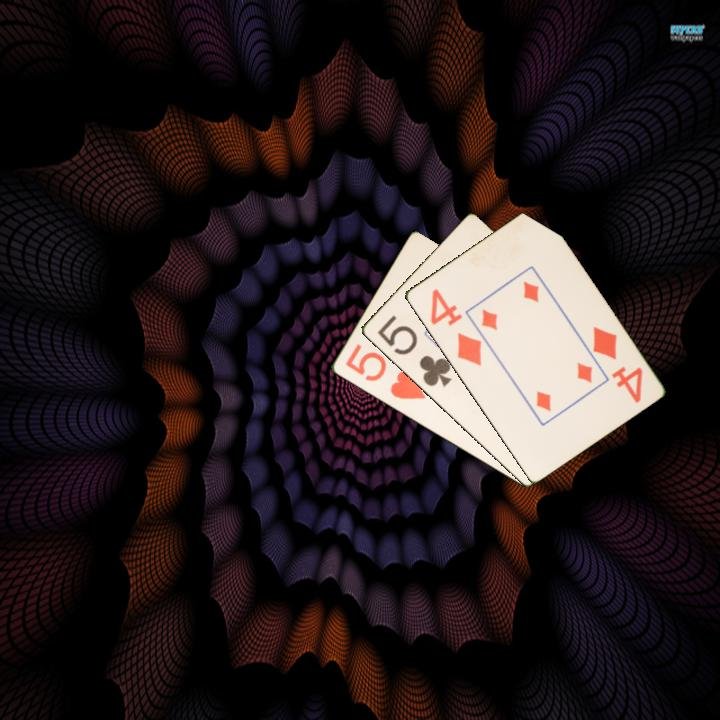4d: (426, 285, 484, 369), (589, 323, 645, 406)
5c: (373, 312, 455, 390)
5h: (341, 340, 428, 403)
